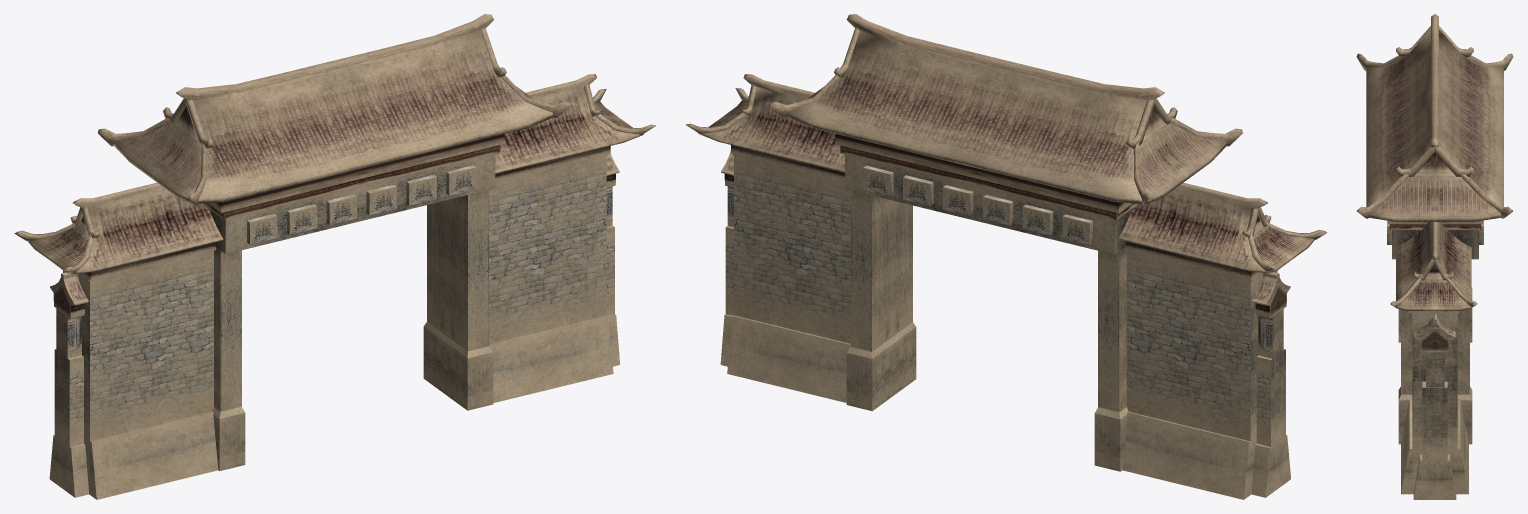
The model's file is desert-middledam-01.glb.
The picture shows the model from 3 angles, left to right: view 1: azimuth 30°, elevation 25°; view 2: azimuth 150°, elevation 25°; view 3: azimuth 270°, elevation 25°; orthographic projection. The views are drawn at different scales.
Parts seen in each view (by area): view 1: desert-middledam-02, desert-middledam-01; view 2: desert-middledam-02, desert-middledam-01; view 3: desert-middledam-01, desert-middledam-02.
Boxes of the visible parts, x1=… form: desert-middledam-02: x1=14, y1=74, x2=655, y2=499; desert-middledam-01: x1=98, y1=14, x2=571, y2=471; desert-middledam-02: x1=686, y1=74, x2=1327, y2=499; desert-middledam-01: x1=768, y1=14, x2=1242, y2=471; desert-middledam-01: x1=1356, y1=14, x2=1513, y2=444; desert-middledam-02: x1=1390, y1=222, x2=1477, y2=499.
Bounding box in the file's own units: 22.82 × 13.67 × 6.24.
2 materials, 2 textured.
